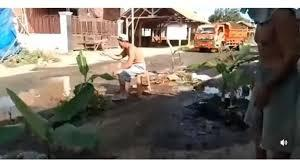Pothole: (169, 59, 226, 97), (0, 73, 41, 110), (48, 65, 81, 97)
